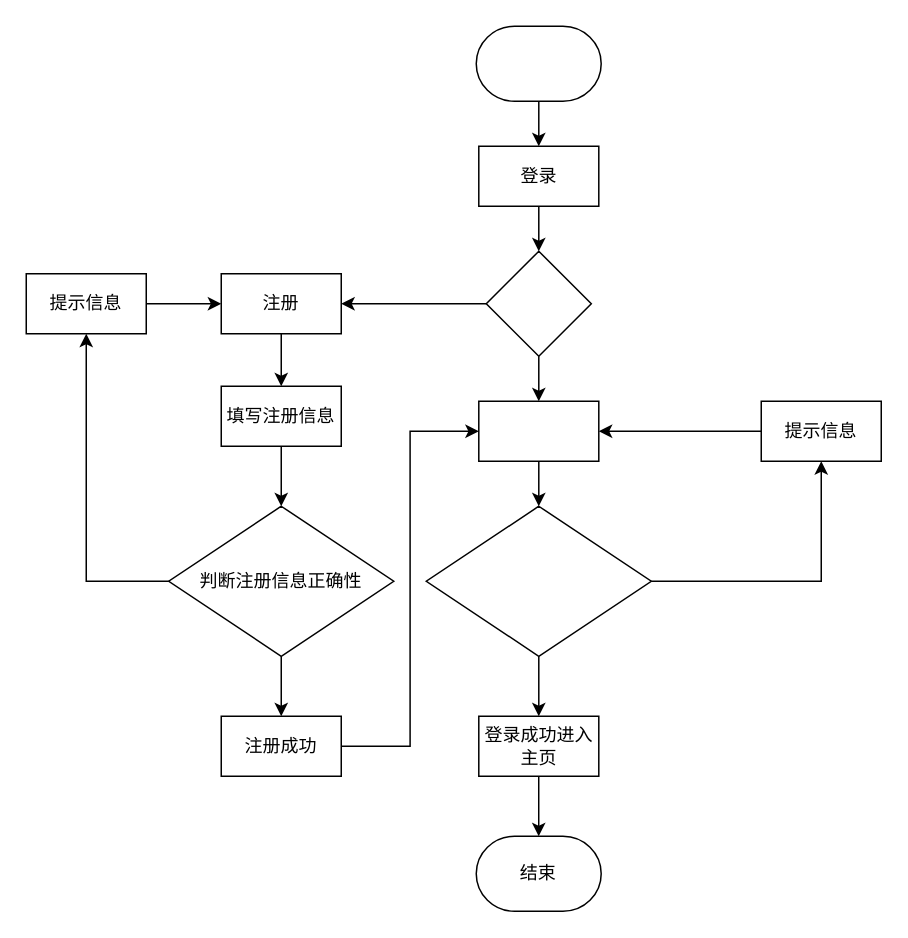
Image size: 908x938. Some labels were removed from this diagram. Here are the shapes that lost their labels. From the top down, the centre of each, then its label:
At pixel 538 63: "开始".
At pixel 538 303: "是否有账户".
At pixel 538 430: "填写账户密码验证码".
At pixel 538 580: "判断账户密码 是否存在和验证码 正确性".
